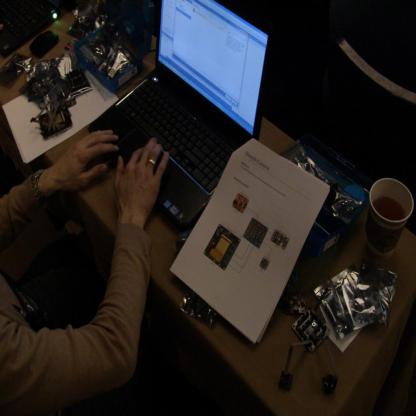board: (88, 0, 263, 216), (366, 177, 414, 262)
